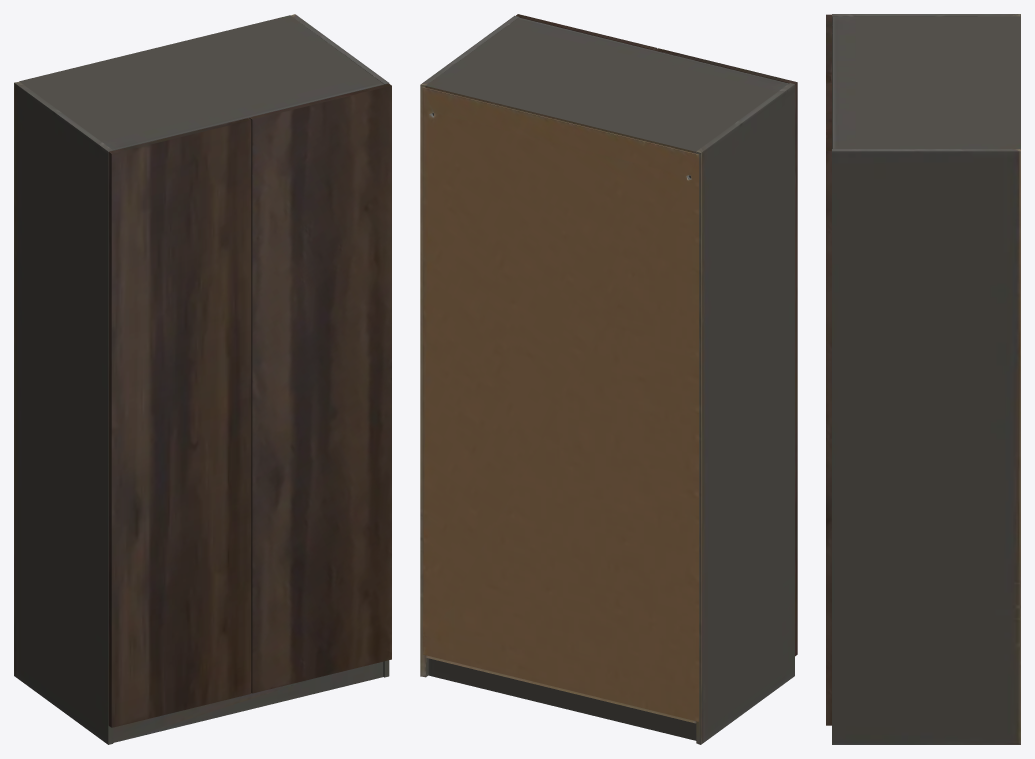
The picture shows the model from 3 angles, left to right: view 1: azimuth 30°, elevation 25°; view 2: azimuth 150°, elevation 25°; view 3: azimuth 270°, elevation 25°; orthographic projection.
Visible parts, largest first — view 1: Mesh_0.001; view 2: Mesh_0.001; view 3: Mesh_0.001.
Part boxes in pixels (bbox=[...]): Mesh_0.001: bbox=[14, 14, 391, 744]; Mesh_0.001: bbox=[420, 14, 797, 744]; Mesh_0.001: bbox=[826, 14, 1020, 744].
Bounding box in the file's own units: 0.9976 × 2.01 × 0.5982.
1 material, 1 textured.
